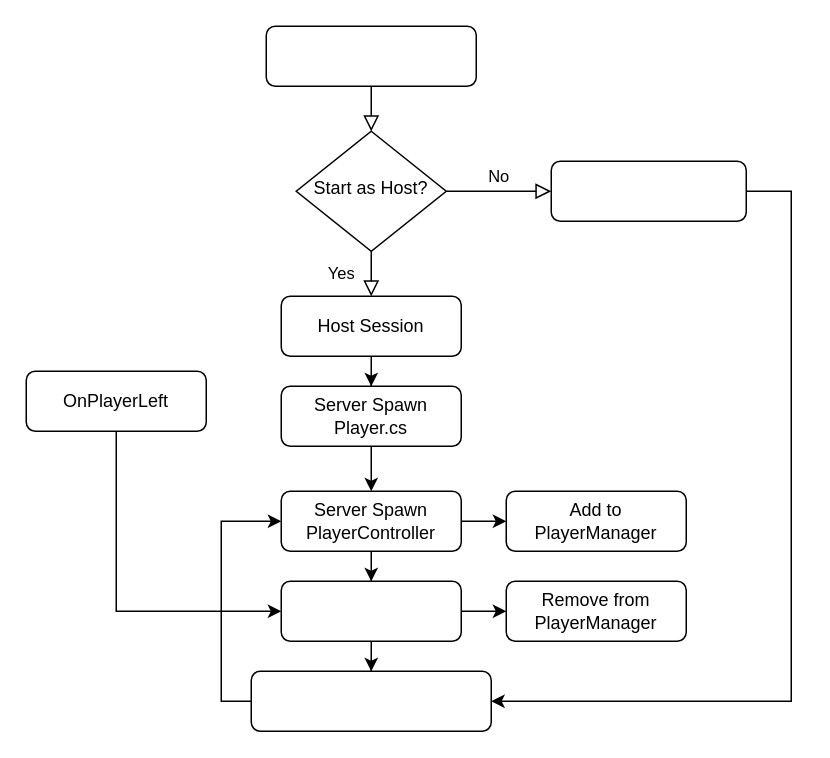
Some shapes in this 830 by 758 pixel diagram are drawn without their labels. The shapes that lost their labels are listed below. From the top down, each one's centre as x and y in pixels, then its label:
At point (370, 55): "ConnectionManager.cs".
At point (648, 190): "Connect to a Session".
At point (370, 610): "Despawn".
At point (370, 700): "RPC_RequestRespawn".
